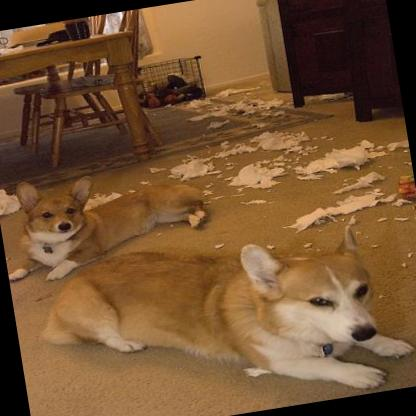Pembroke: (26, 204, 416, 416), (0, 153, 209, 286)
